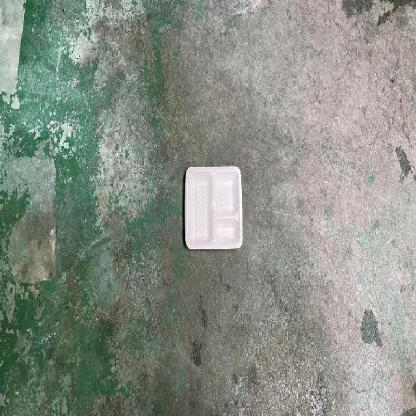Glass Cup: (185, 165, 243, 250), (185, 166, 243, 249)
